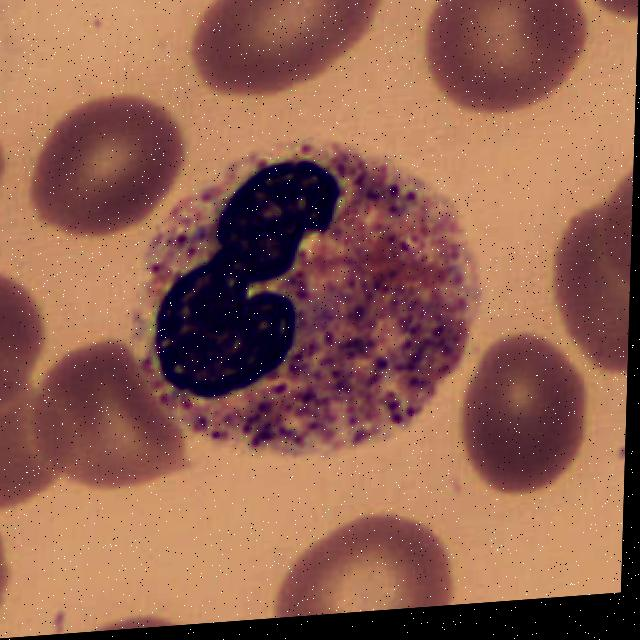neutrophil: (124, 120, 490, 480)
rbc: (30, 343, 183, 495), (461, 323, 586, 507), (32, 91, 190, 236), (265, 514, 454, 619), (195, 0, 386, 99), (430, 0, 578, 123), (551, 194, 633, 379), (0, 377, 79, 508), (0, 275, 46, 424), (590, 152, 634, 294), (73, 612, 205, 633), (0, 513, 21, 634), (559, 0, 640, 27), (0, 109, 8, 240)
